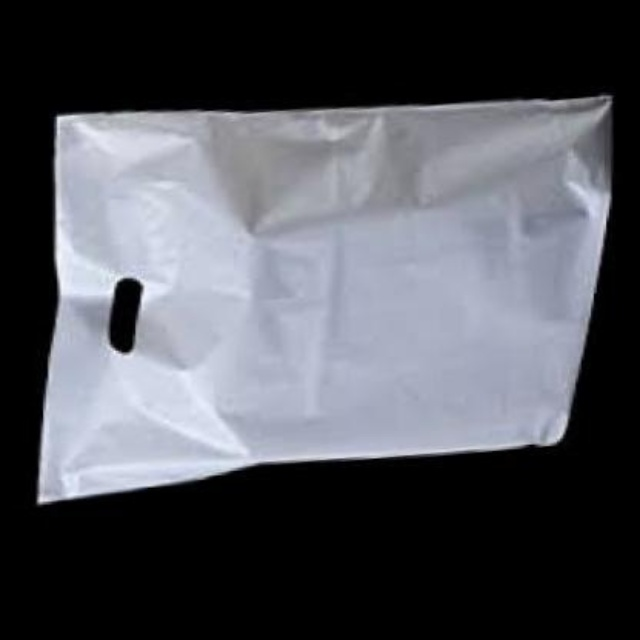trash: (38, 97, 611, 500)
